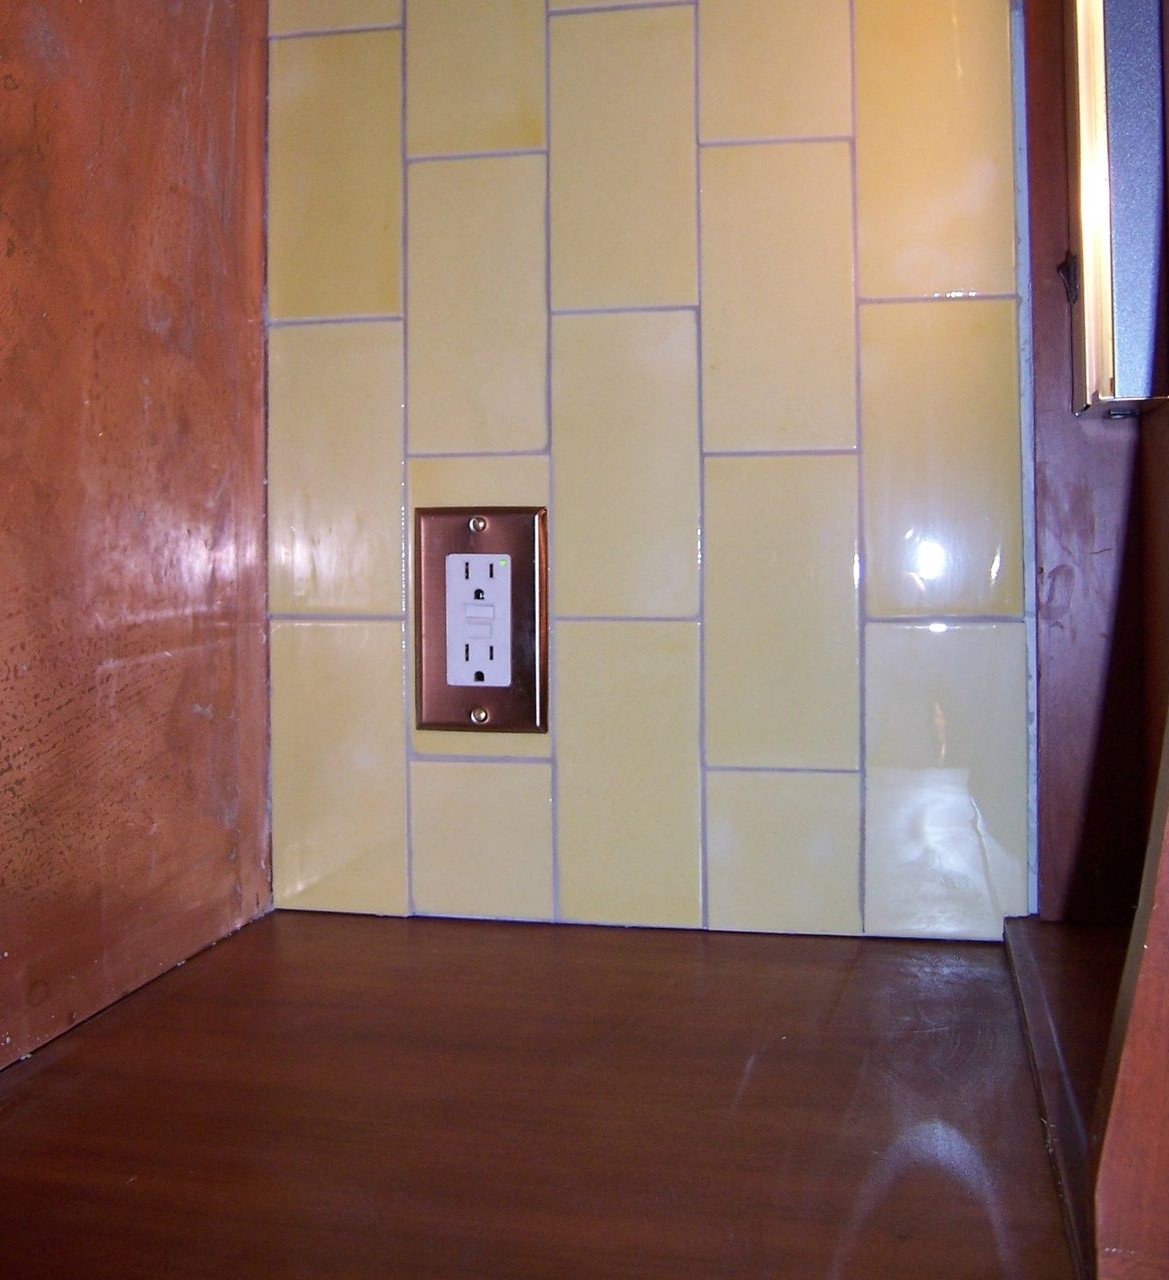outlet: (455, 547, 501, 615), (451, 631, 505, 686)
